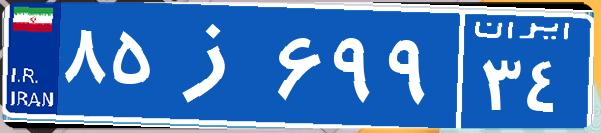3: (475, 38, 525, 113)
4: (525, 38, 570, 115)
5: (110, 28, 158, 105)
6: (273, 28, 330, 110)
8: (57, 26, 110, 107)
9: (385, 28, 445, 110), (330, 28, 385, 110)
ز: (158, 15, 273, 115)
